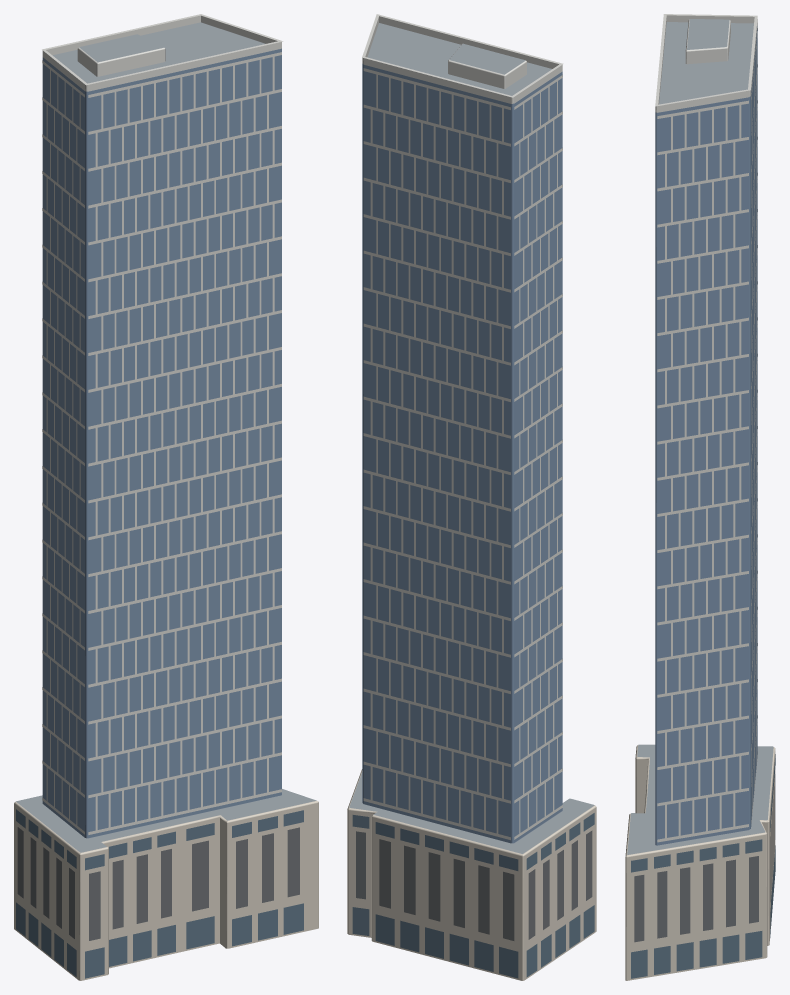
The model's file is nyc-brooklyn-point.glb.
The picture shows the model from 3 angles, left to right: view 1: azimuth 30°, elevation 25°; view 2: azimuth 150°, elevation 25°; view 3: azimuth 270°, elevation 25°; orthographic projection.
Parts seen in each view (by area): view 1: Brooklyn Point; view 2: Brooklyn Point; view 3: Brooklyn Point.
Part boxes in pixels (<box>): Brooklyn Point: <box>14,14,318,980</box>; Brooklyn Point: <box>347,14,596,980</box>; Brooklyn Point: <box>625,14,775,980</box>.
Bounding box in the file's own units: 61.56 × 223 × 34.79.
